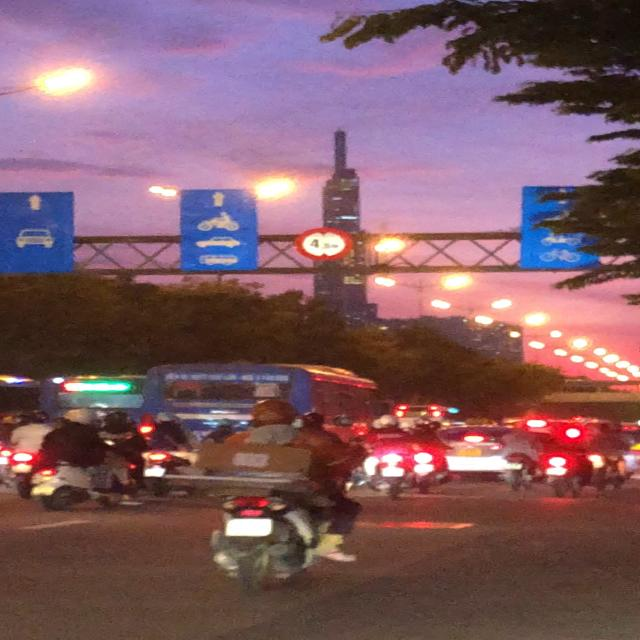Bien bao han che chieu cao: (293, 225, 362, 264)
